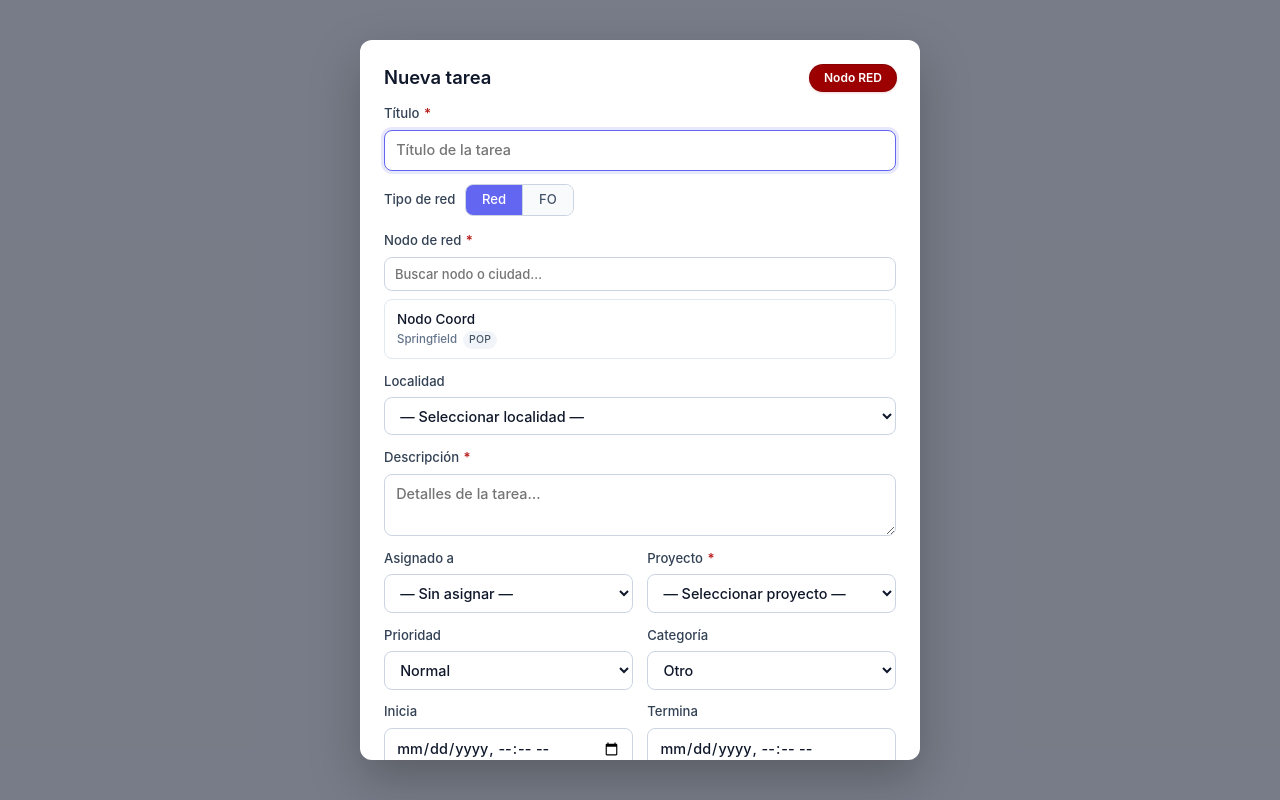
Test: CreateTaskModal — coordinates address fallback in RED mode (#68) › prefills address with "lat,lng" when the site has no manual address but has coordinates
Click the text "Nodo Coord": x=436, y=319 [397,311,475,327]
(page scrolled)
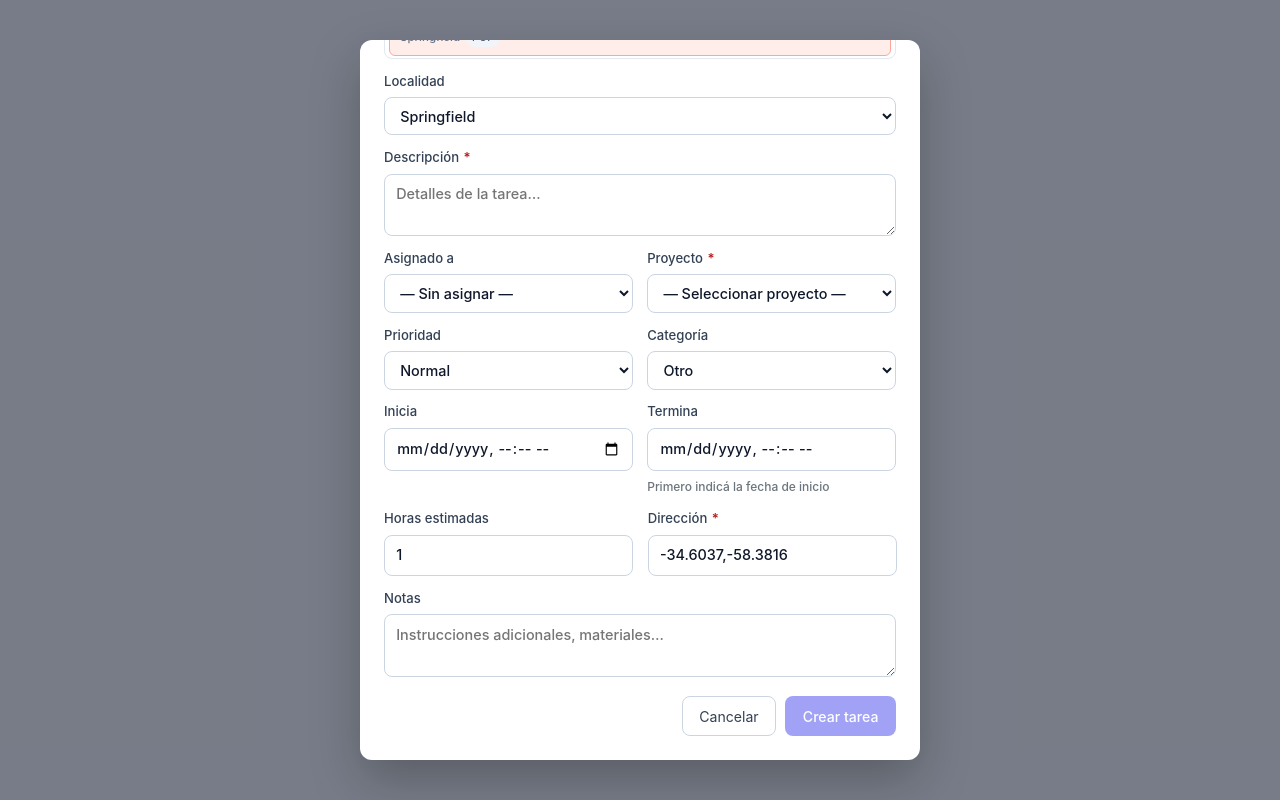
expect the field with placeholder "Dirección del trabajo" holds "-34.6037,-58.3816": met, box [648,535,897,576]
